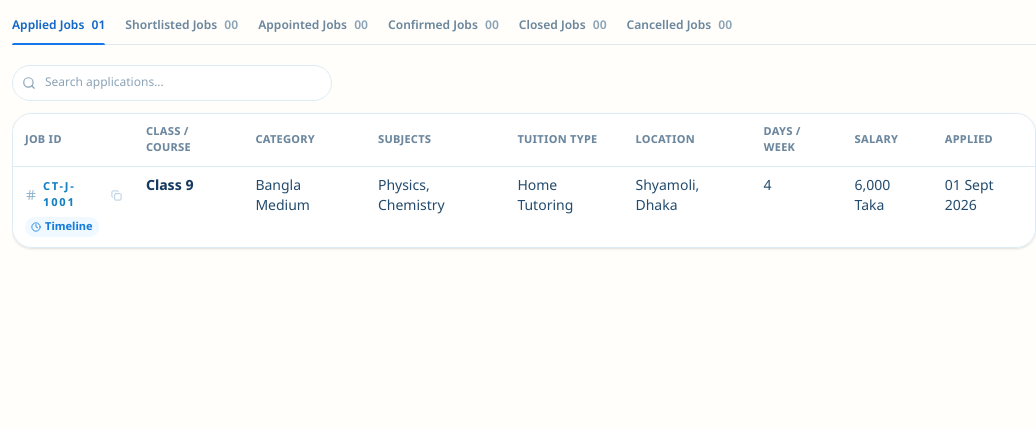
Scenario: the Tutor's Status tab › says which stage is empty rather than showing a blank panel
The image size is (1036, 430).
Click the tab "Appointed Jobs 00" at (313, 28), box [258,12,368,44]
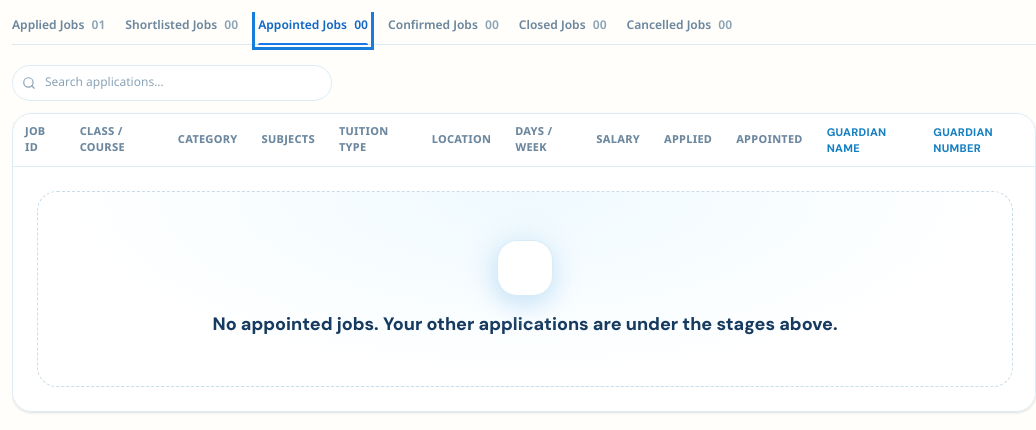
Result: the heading "No appointed jobs." is shown at [212,312,838,336]
